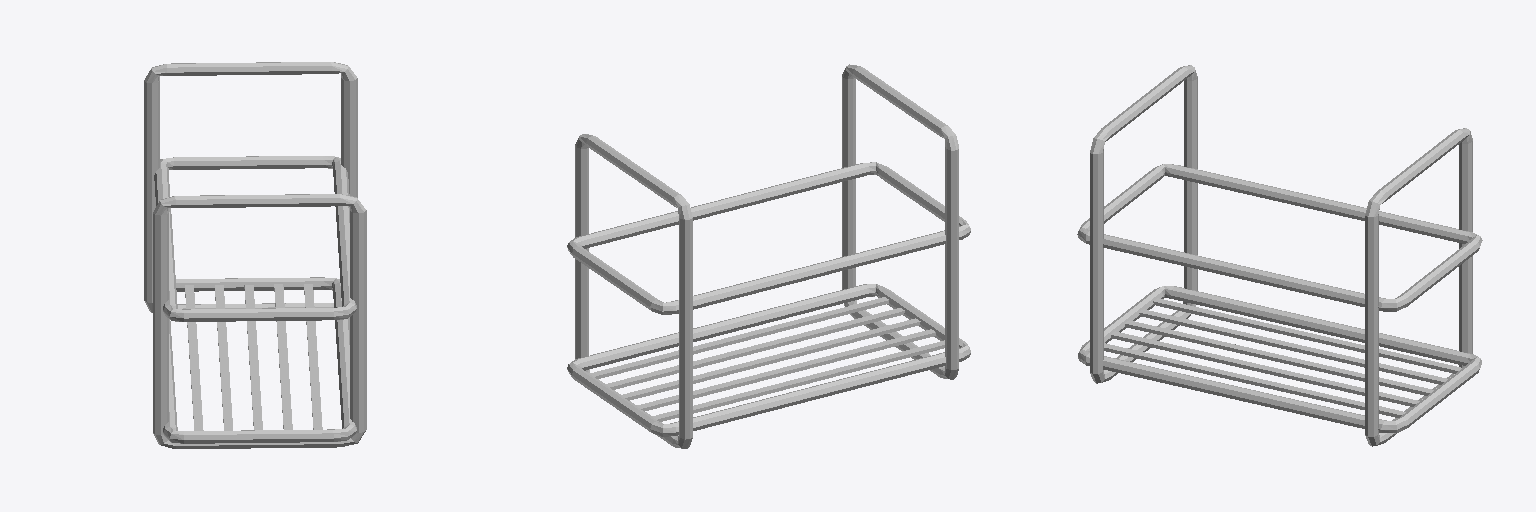
Rendered from bedmetal.obj.
The picture shows the model from 3 angles: view 1: azimuth 30°, elevation 25°; view 2: azimuth 150°, elevation 25°; view 3: azimuth 270°, elevation 25°; orthographic projection.
Parts seen in each view (by area): view 1: bedmetal; view 2: bedmetal; view 3: bedmetal.
Part boxes in pixels (left/top/right/bottom): bedmetal: left=144, top=62, right=366, bottom=448; bedmetal: left=567, top=64, right=970, bottom=448; bedmetal: left=1077, top=65, right=1482, bottom=446.
Size of the model in its own units: 10.86 by 8.98 by 13.04.